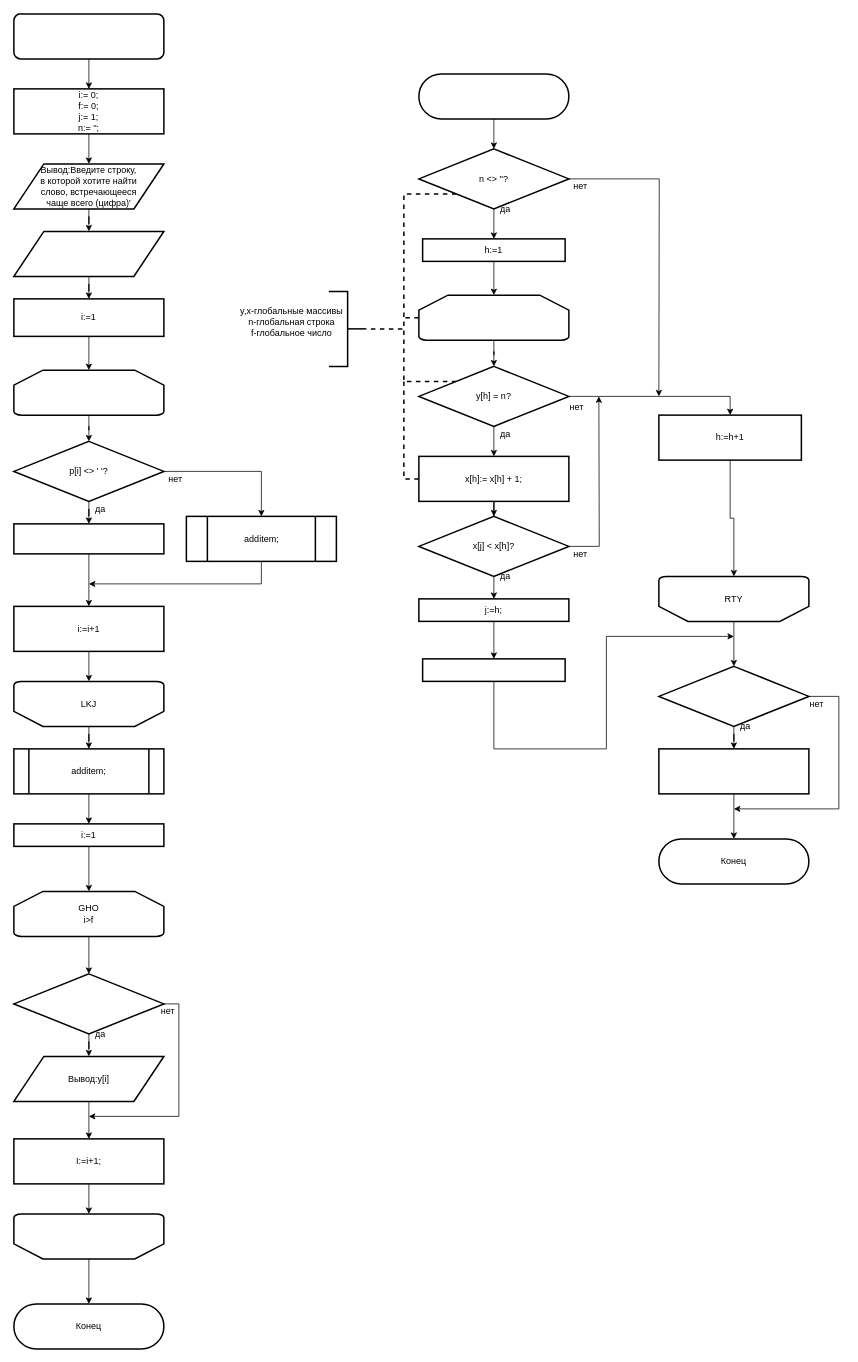
The diagram is 858 pixels wide and 1362 high, and some of its shapes have lost their labels. The box of each missing label's shape, as (x1, y1, x2, y2) in pixels:
additem Начало: (418, 73, 569, 119)
f:= f+1; x[f]:= 1; y[f]:= n; n:= '';: (658, 748, 809, 794)
GHO: (13, 1213, 164, 1259)
LKJ i>length: (13, 369, 164, 416)
n <> ' '?: (658, 665, 809, 727)
n:= '';: (422, 658, 566, 682)
n:= n + p[i]: (13, 523, 164, 554)
RTY h>f: (418, 294, 569, 340)
x[i] = x[j]?: (13, 973, 164, 1034)
Ввод:p: (13, 230, 164, 277)
Начало: (13, 13, 164, 59)
